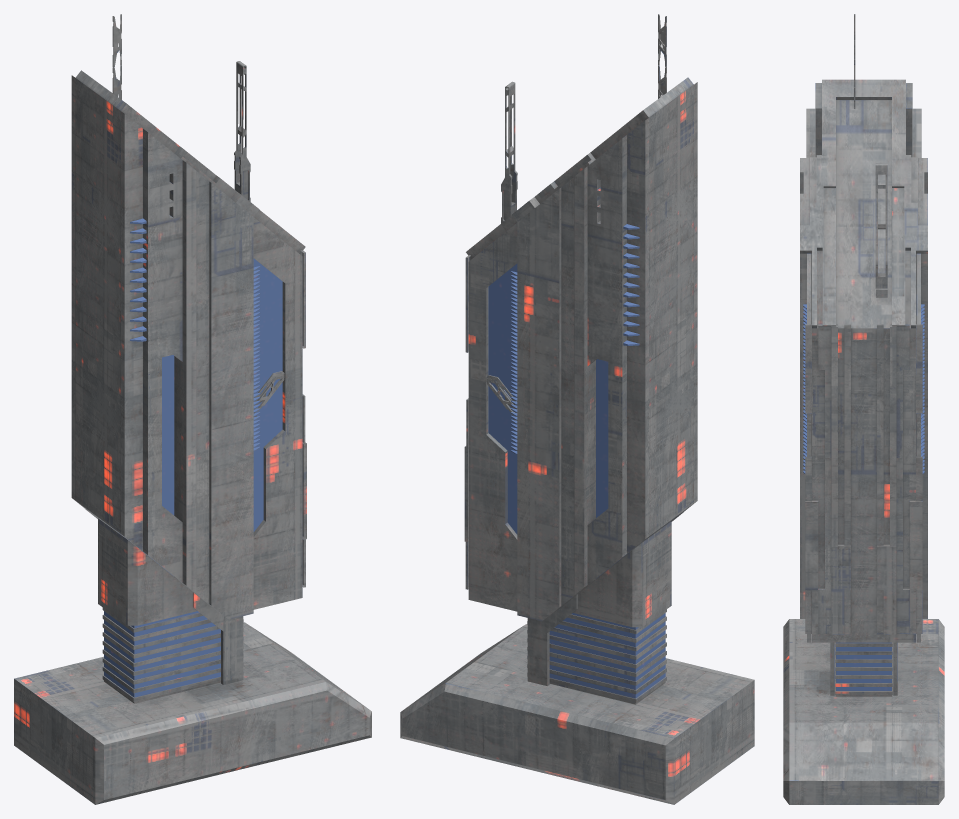
3 renders of one model, left to right at view 1: azimuth 30°, elevation 25°; view 2: azimuth 150°, elevation 25°; view 3: azimuth 270°, elevation 25°, orthographic. The views are drawn at different scales.
Visible parts, largest first — view 1: 超级大楼3_Baked; view 2: 超级大楼3_Baked; view 3: 超级大楼3_Baked.
Boxes of the visible parts, bbox=[...] form: 超级大楼3_Baked: bbox=[14, 14, 371, 804]; 超级大楼3_Baked: bbox=[400, 14, 754, 804]; 超级大楼3_Baked: bbox=[783, 14, 944, 804].
Bounding box in the file's own units: 274 × 709 × 150.
